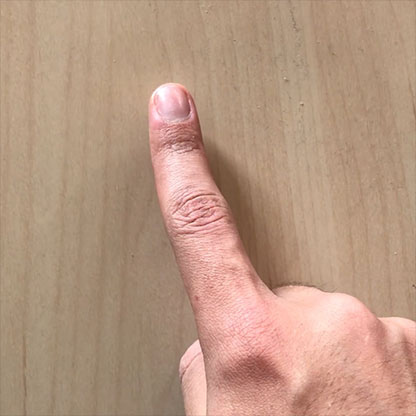fingertip: (143, 71, 208, 139)
